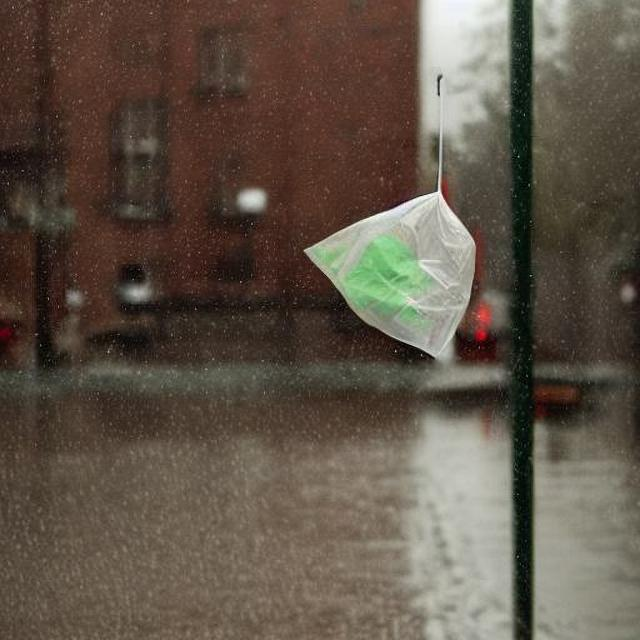plastic bag: (308, 188, 470, 346)
